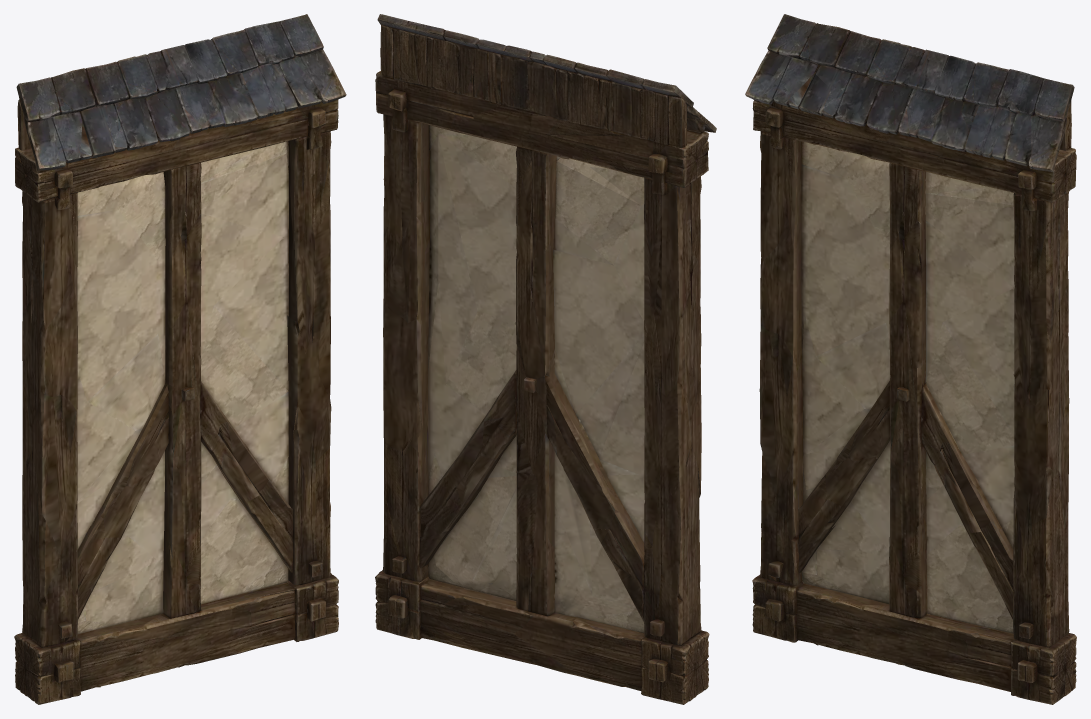
The model's file is timber-panel.glb.
3 views of the same model, side by side, from view 1: azimuth 30°, elevation 25°; view 2: azimuth 150°, elevation 25°; view 3: azimuth 330°, elevation 25° (orthographic). The views are drawn at different scales.
Visible parts, largest first — view 1: Mesh_0; view 2: Mesh_0; view 3: Mesh_0.
Boxes of the visible parts, bbox=[...] form: Mesh_0: bbox=[14, 14, 346, 704]; Mesh_0: bbox=[375, 14, 716, 704]; Mesh_0: bbox=[745, 14, 1076, 704].
Size of the model in its own units: 1.02 by 1.9 by 0.1958.
1 material, 1 textured.
